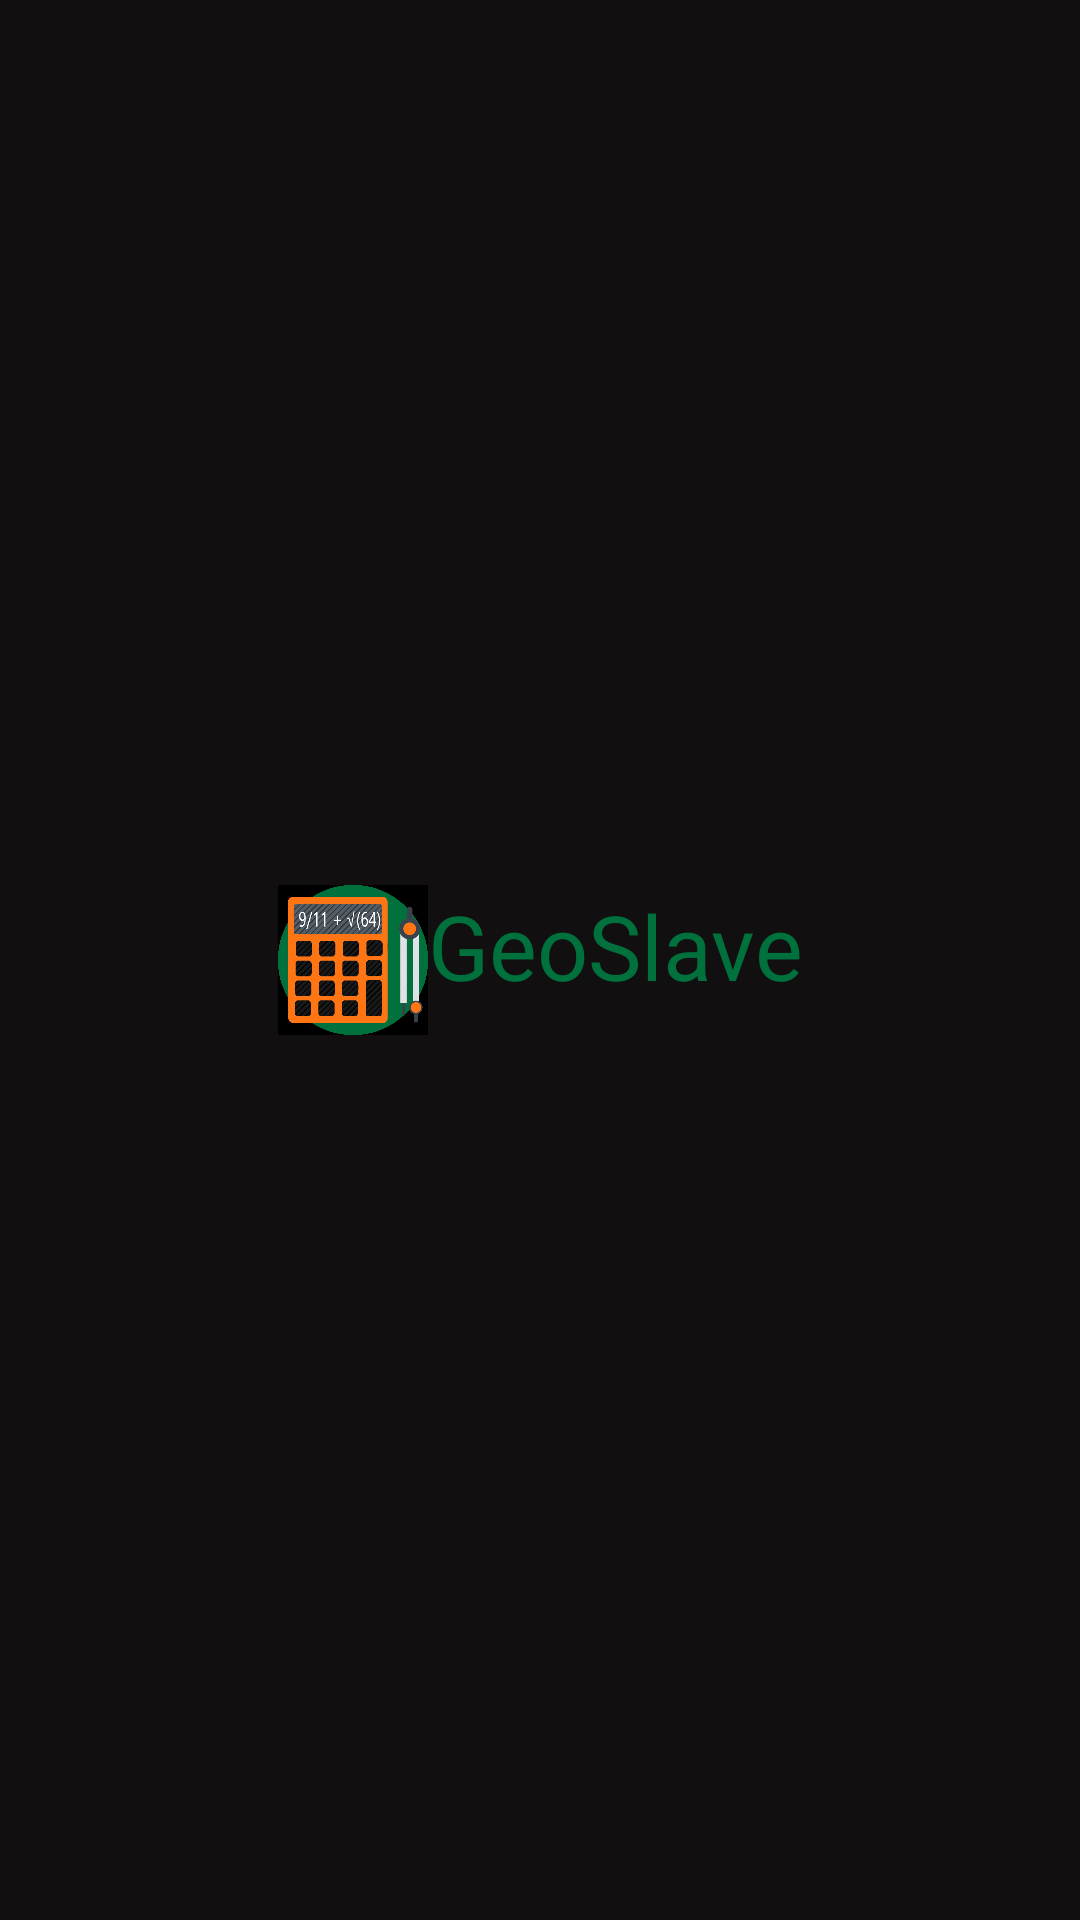

Named icons in this screenshot (1080px x 1920px) and their bounding boxes, (x1, y1, x2, y2):
geo: (278, 885, 428, 1035)
